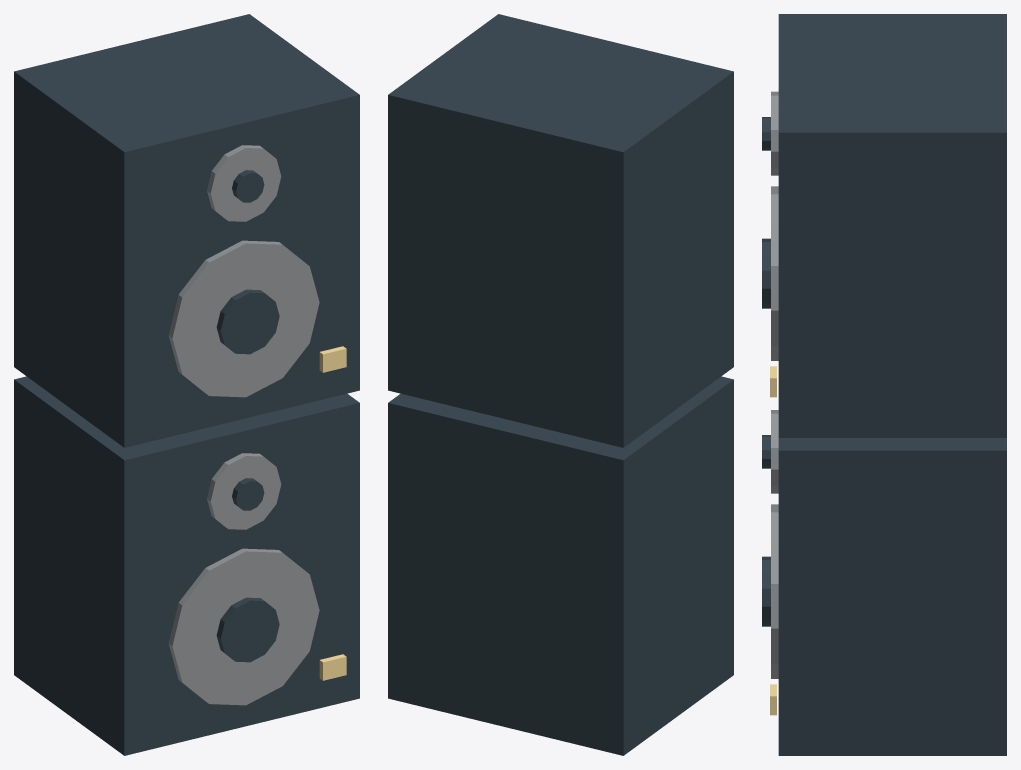
File: speaker_stack.glb
The picture shows the model from 3 angles, left to right: view 1: azimuth 30°, elevation 25°; view 2: azimuth 150°, elevation 25°; view 3: azimuth 270°, elevation 25°; orthographic projection. The views are drawn at different scales.
Parts seen in each view (by area): view 1: cabinet.001, cabinet, speaker_driver.002, speaker_driver, speaker_driver.003, speaker_driver.001, dust_cap, dust_cap.002, dust_cap.001, dust_cap.003, corner_badge, corner_badge.001; view 2: cabinet.001, cabinet; view 3: cabinet.001, cabinet, speaker_driver, speaker_driver.002, speaker_driver.003, speaker_driver.001, dust_cap, dust_cap.002.
Part boxes in pixels (bbox=[...]): cabinet.001: bbox=[14, 14, 359, 447]; cabinet: bbox=[14, 376, 359, 755]; speaker_driver.002: bbox=[168, 240, 319, 397]; speaker_driver: bbox=[168, 548, 319, 705]; speaker_driver.003: bbox=[207, 145, 281, 221]; speaker_driver.001: bbox=[207, 453, 281, 529]; dust_cap: bbox=[216, 597, 279, 662]; dust_cap.002: bbox=[216, 289, 279, 354]; dust_cap.001: bbox=[232, 478, 264, 510]; dust_cap.003: bbox=[232, 170, 264, 202]; corner_badge: bbox=[319, 654, 346, 680]; corner_badge.001: bbox=[319, 346, 346, 372]; cabinet.001: bbox=[388, 14, 733, 447]; cabinet: bbox=[388, 376, 733, 755]; cabinet.001: bbox=[778, 14, 1006, 437]; cabinet: bbox=[778, 438, 1006, 755]; speaker_driver: bbox=[771, 504, 778, 678]; speaker_driver.002: bbox=[771, 186, 778, 360]; speaker_driver.003: bbox=[771, 91, 778, 175]; speaker_driver.001: bbox=[771, 410, 778, 493]; dust_cap: bbox=[762, 556, 770, 626]; dust_cap.002: bbox=[762, 238, 770, 308].
Size of the model in its own units: 0.8 by 1.96 by 0.6975.
